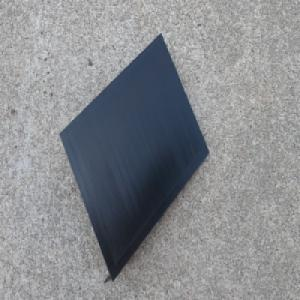PlasticPart: (58, 32, 210, 283)
